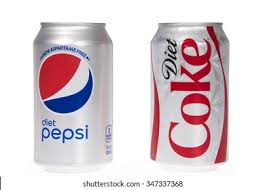can: (27, 12, 122, 174), (144, 16, 236, 171)
